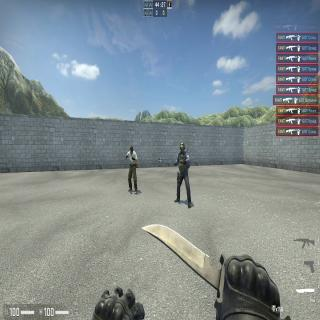CT-Body: (177, 142, 189, 204)
CT-Head: (179, 142, 185, 153)
T-Body: (127, 146, 138, 192)
T-Head: (130, 146, 134, 154)
